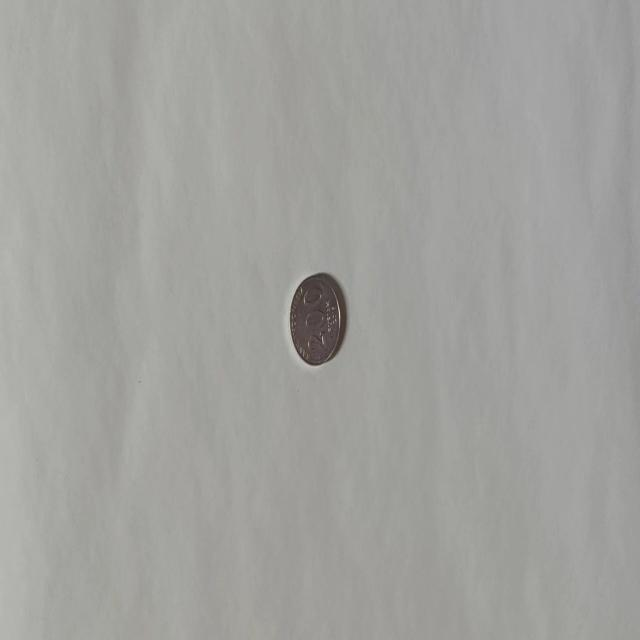dua ratus rupiah: (288, 272, 342, 366)
